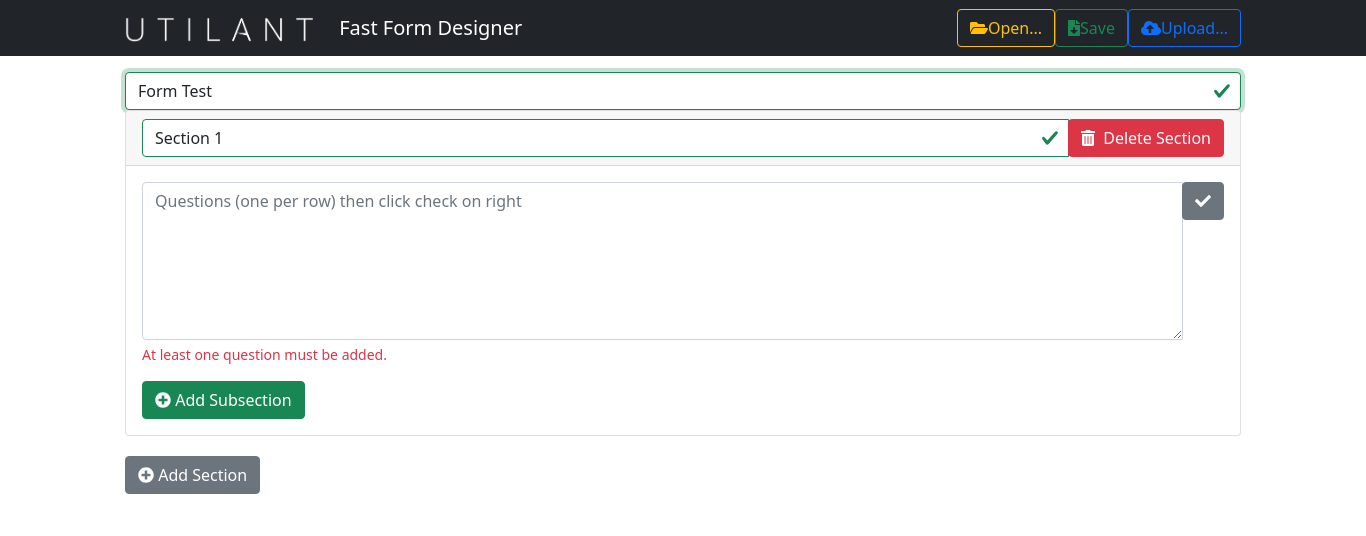
E2E testing of Fast Form Designer › Clears section name and error appears
The image size is (1366, 536).
Clear the field with id "sectionName" at (606, 138), box [142,119,1069,157]
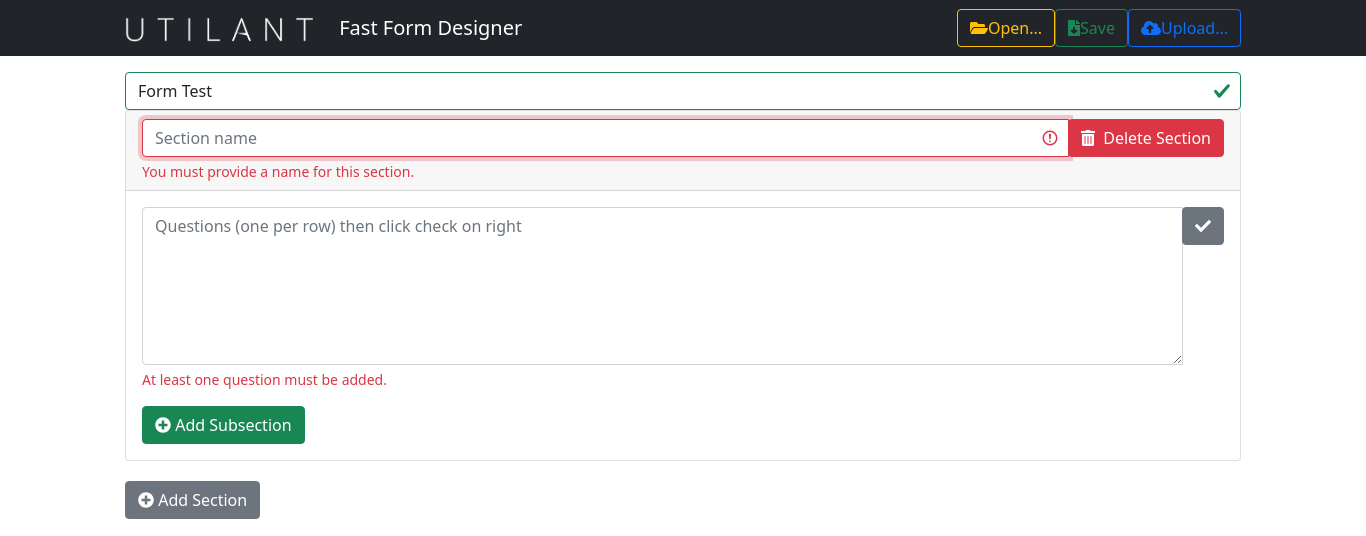
Result: the text "You must provide a name for this section." is shown at [142,162,414,181]
